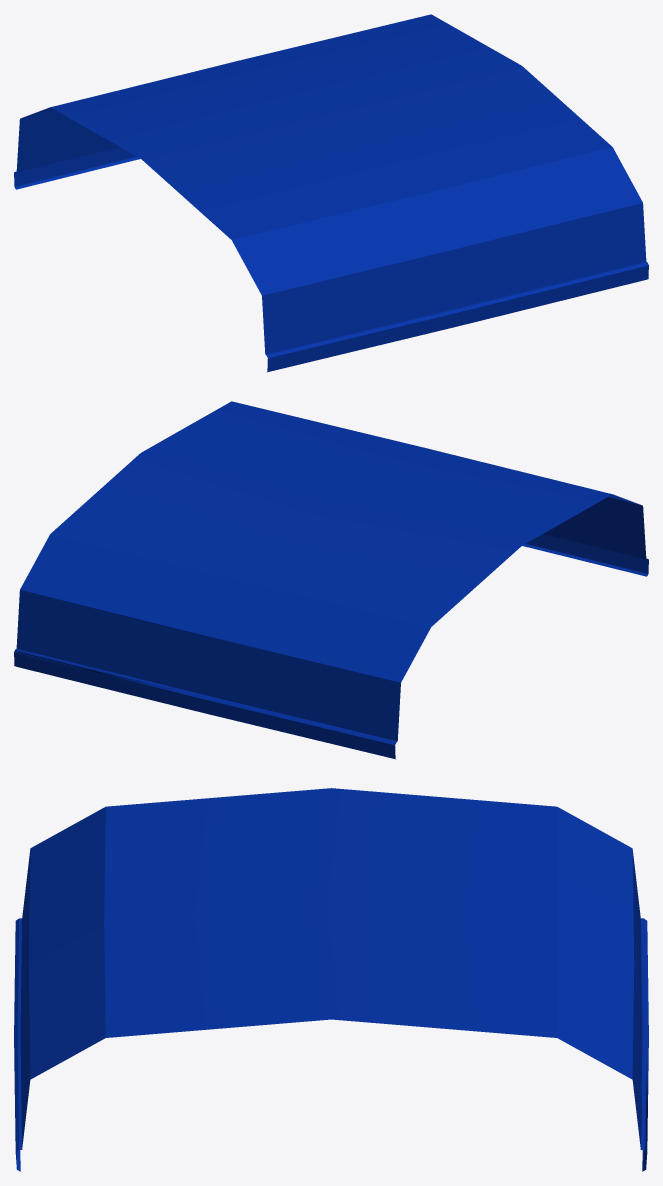
Rendered from asset_metro_toit.fbx.
3 views of the same model, one above another, from view 1: azimuth 30°, elevation 25°; view 2: azimuth 150°, elevation 25°; view 3: azimuth 270°, elevation 25° (orthographic). The views are drawn at different scales.
Parts seen in each view (by area): view 1: polySurface95; view 2: polySurface95; view 3: polySurface95.
Boxes of the visible parts, x1,y1,x2,y2 form: polySurface95: (14,14,648,372); polySurface95: (14,401,648,759); polySurface95: (14,788,648,1171).
Size of the model in its own units: 400 by 123 by 464.
